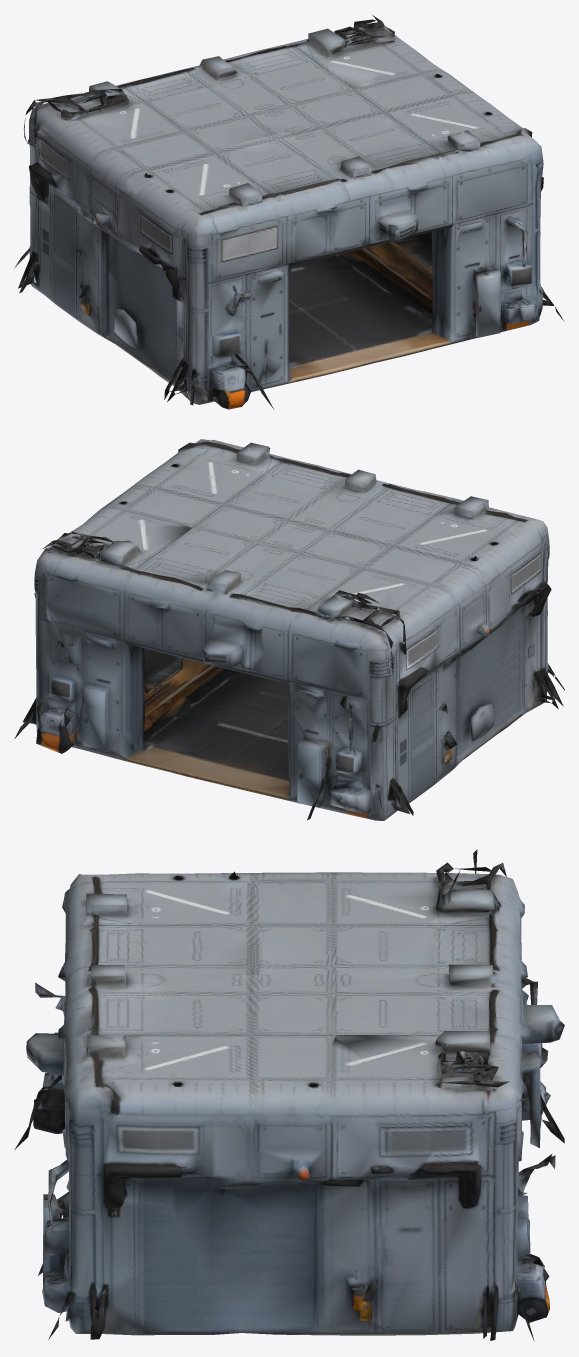
File: Meshy_AI_A_lunar_temporary_gar_0417231334_texture.glb
3 renders of one model, top to bottom at view 1: azimuth 30°, elevation 25°; view 2: azimuth 150°, elevation 25°; view 3: azimuth 270°, elevation 25°, orthographic. The views are drawn at different scales.
Size of the model in its own units: 2 by 0.9976 by 1.85.
1 material, 1 textured.
